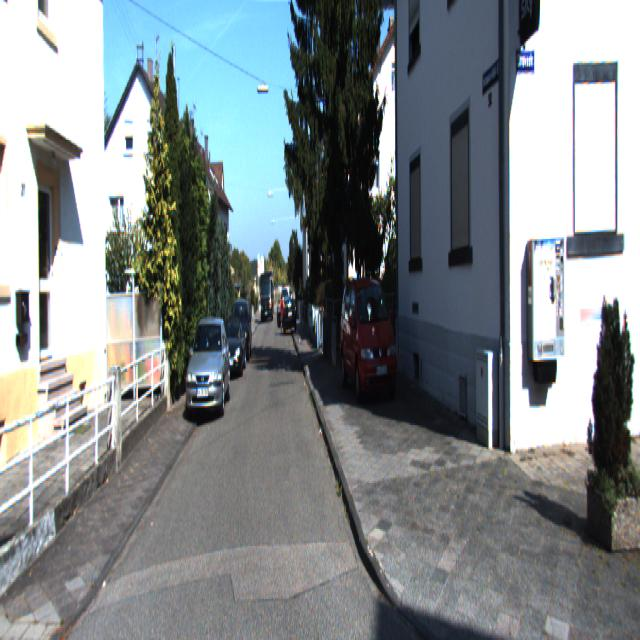Car: (339, 270, 397, 408), (186, 313, 230, 424), (218, 319, 246, 384)
